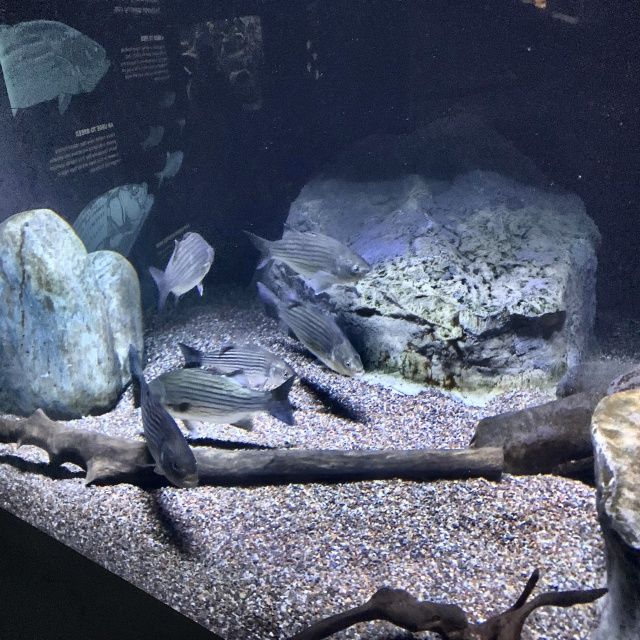fish: (254, 272, 365, 381), (144, 362, 299, 436), (124, 348, 202, 494), (243, 220, 376, 287), (176, 336, 297, 395), (147, 229, 218, 312)
